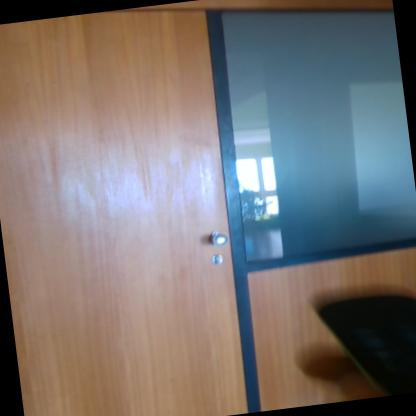closed: (0, 4, 268, 415)
